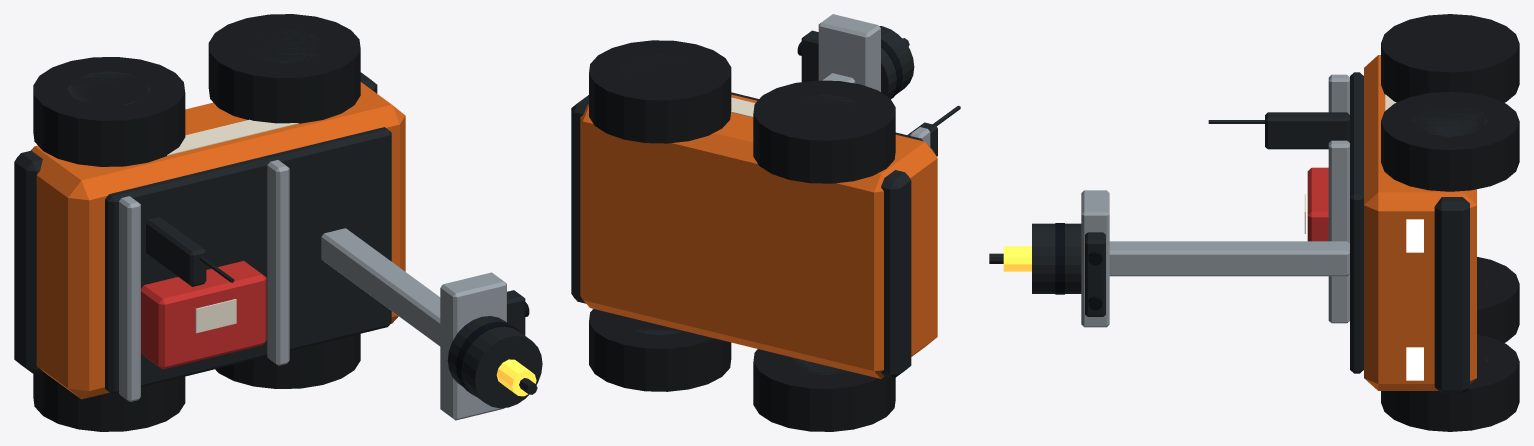
Rendered from blender_responder.glb.
3 renders of one model, left to right at view 1: azimuth 30°, elevation 25°; view 2: azimuth 150°, elevation 25°; view 3: azimuth 270°, elevation 25°, orthographic. The views are drawn at different scales.
Visible parts, largest first — view 1: responder_body; view 2: responder_body; view 3: responder_body.
Part boxes in pixels (x1,y1,x2,y2): responder_body: (14,14,542,431); responder_body: (571,14,960,431); responder_body: (989,14,1519,431).
Size of the model in its own units: 0.52 by 0.44 by 0.75.
